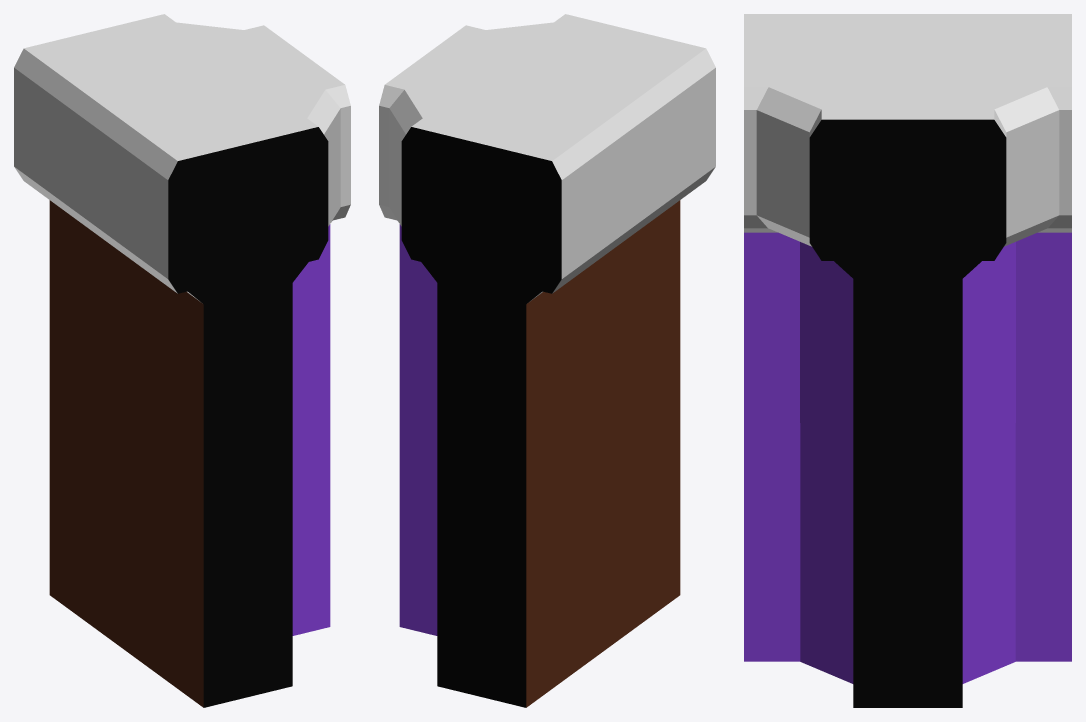
File: Wall T.fbx
3 renders of one model, left to right at view 1: azimuth 30°, elevation 25°; view 2: azimuth 150°, elevation 25°; view 3: azimuth 270°, elevation 25°, orthographic. The views are drawn at different scales.
Visible parts, largest first — view 1: Wall T; view 2: Wall T; view 3: Wall T.
Part boxes in pixels (left/top/right/bottom): Wall T: left=14, top=14, right=350, bottom=707; Wall T: left=379, top=14, right=715, bottom=707; Wall T: left=744, top=14, right=1071, bottom=707.
Bounding box in the file's own units: 80 × 198 × 100.
